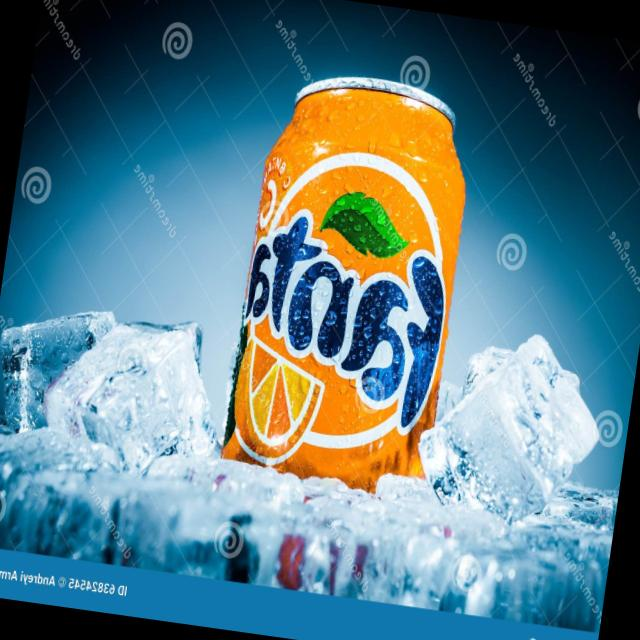fanta: (214, 72, 481, 504)
